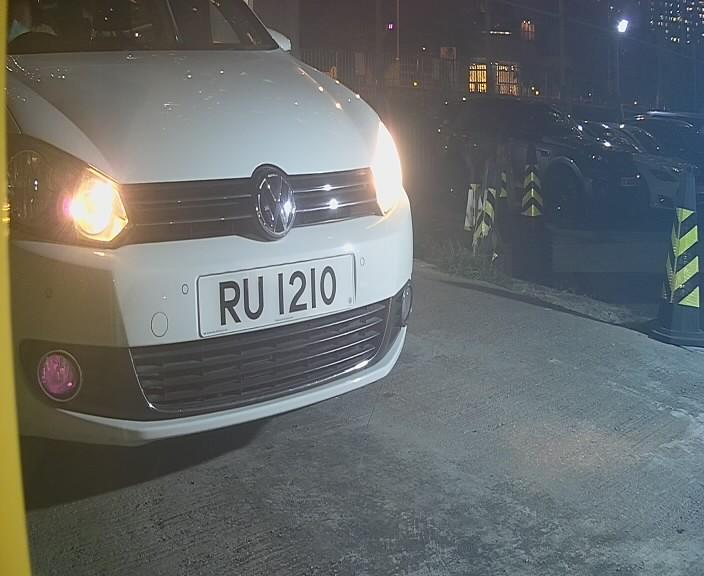License Plate: (189, 250, 356, 340)
